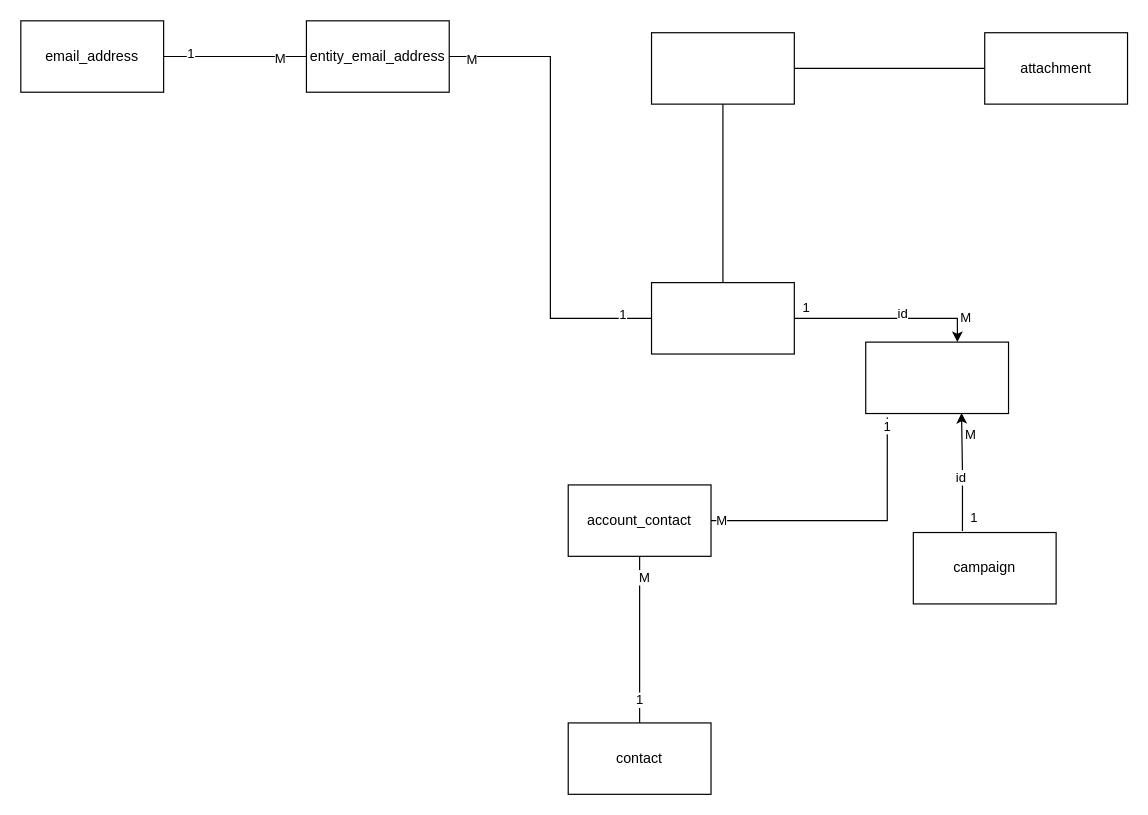
The diagram is 1148 pixels wide and 815 high, and some of its shapes have lost their labels. Each missing label, with the box of its shape:
account: (865, 341, 1009, 414)
document: (650, 32, 794, 104)
user: (650, 281, 794, 354)
